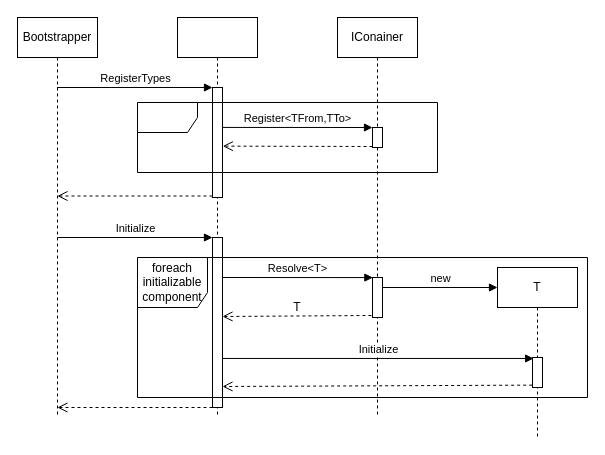
The diagram is 605 pixels wide and 455 high, and some of its shapes have lost their labels. Here are the shapes that lost their labels. From the top down, the centre of each, then its label:
At (x=287, y=137): "foreach type".
At (x=217, y=217): "Module".
